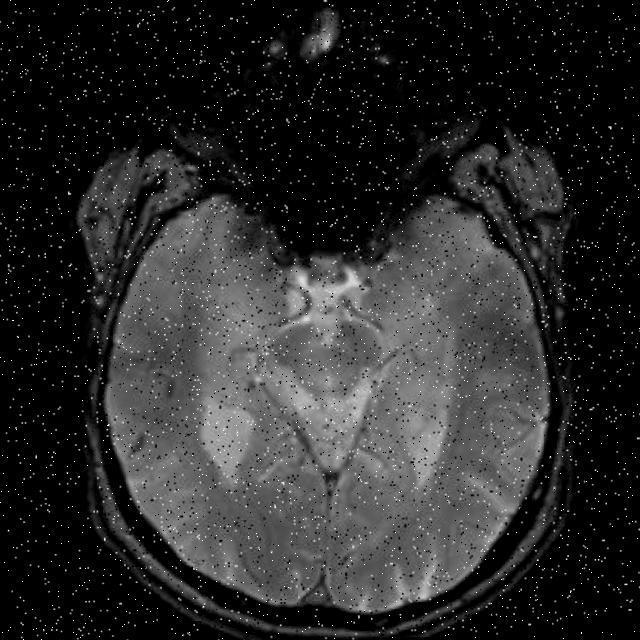EMCI: (173, 382, 270, 480), (399, 386, 478, 494)
